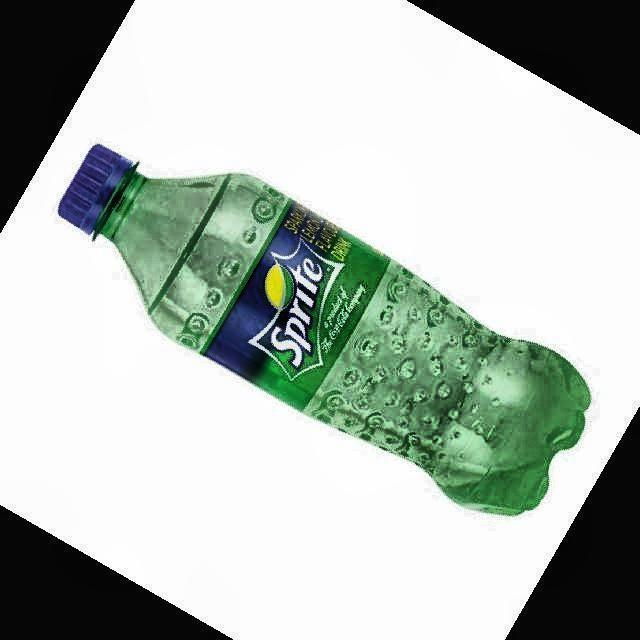plastic: (59, 145, 590, 514)
